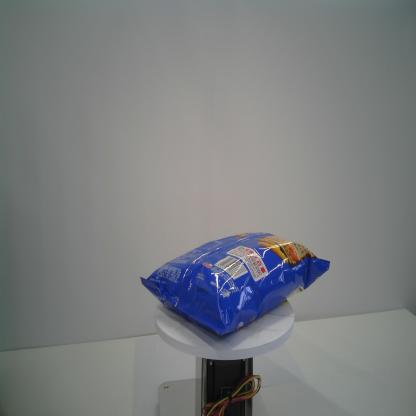Puffed Food: (141, 231, 330, 336)
